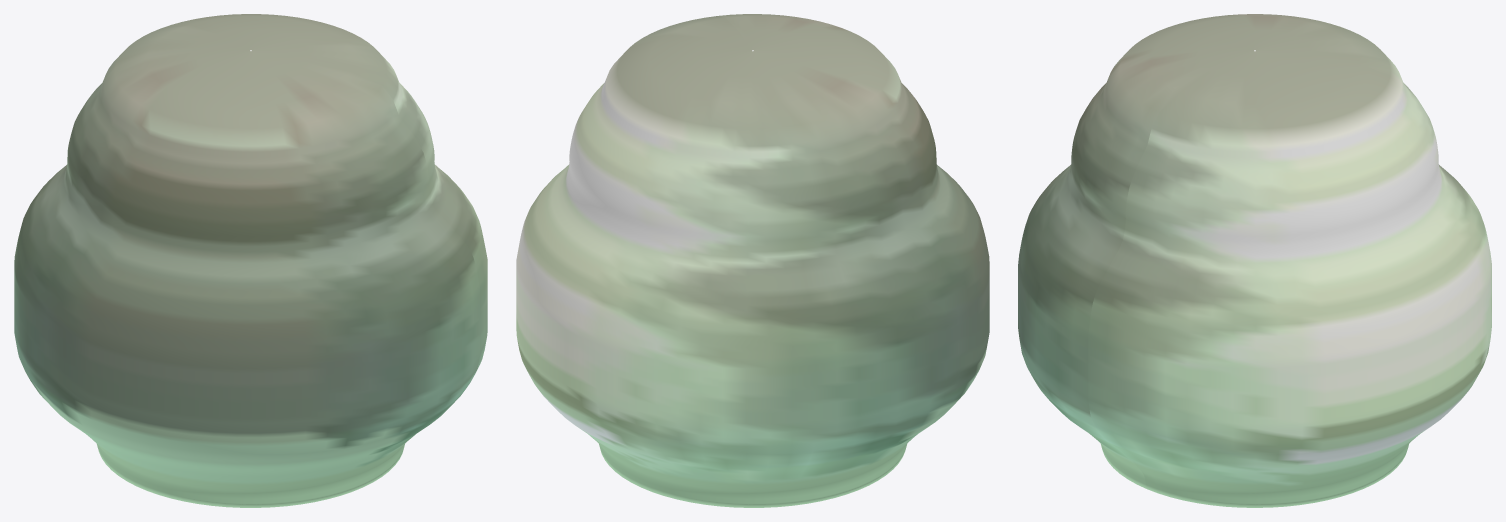
Rendered from bush-1.glb.
3 views of the same model, side by side, from view 1: azimuth 30°, elevation 25°; view 2: azimuth 150°, elevation 25°; view 3: azimuth 270°, elevation 25° (orthographic).
Parts seen in each view (by area): view 1: bush-1; view 2: bush-1; view 3: bush-1.
Boxes of the visible parts, left/top/right/bottom form: bush-1: left=14, top=14, right=487, bottom=507; bush-1: left=516, top=14, right=989, bottom=507; bush-1: left=1018, top=14, right=1491, bottom=507.
Size of the model in its own units: 0.4874 by 0.4454 by 0.4874.
